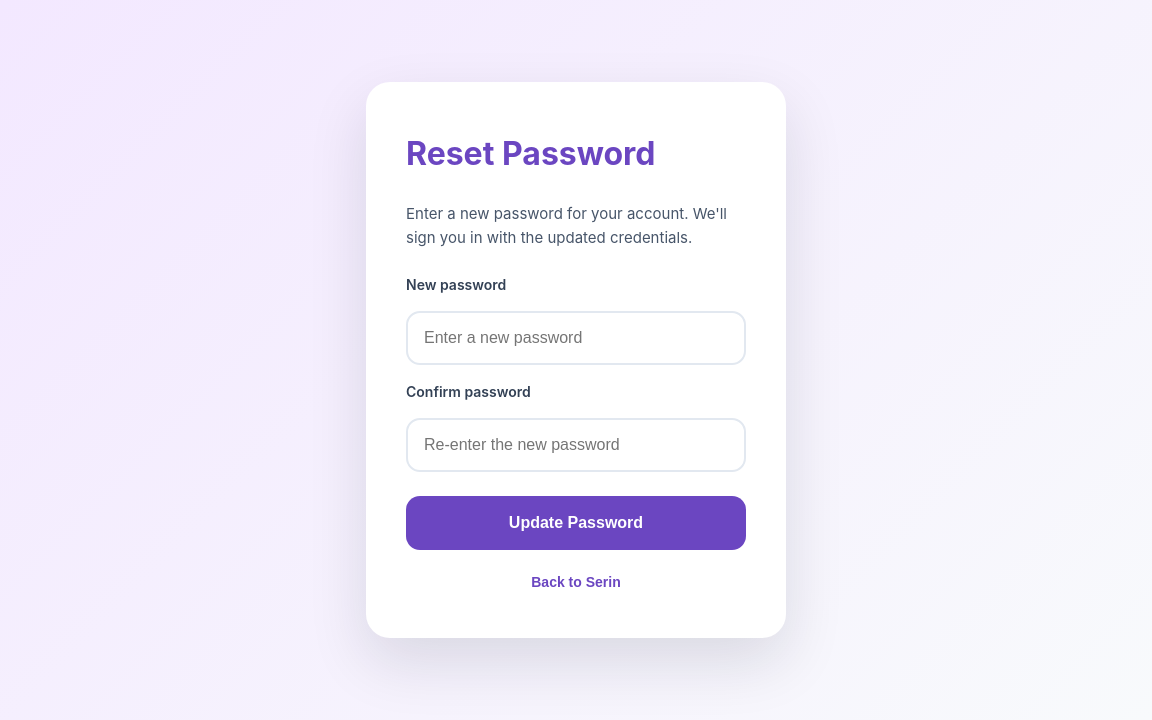
ResetPassword › updates password successfully and redirects
The image size is (1152, 720).
Type "secure123" into the password field labelled "New password".
click(576, 338); type("secure123")  # box [406,311,746,365]
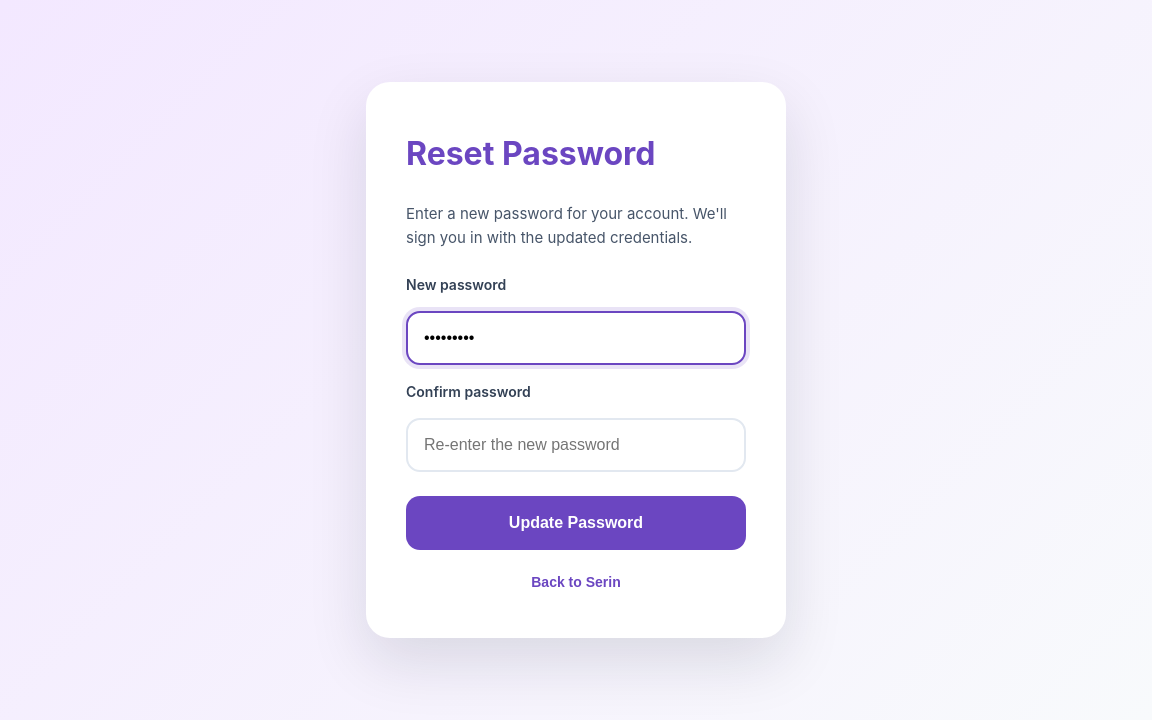
Type "secure123" into the password field labelled "Confirm password".
click(576, 445); type("secure123")  # box [406,418,746,472]
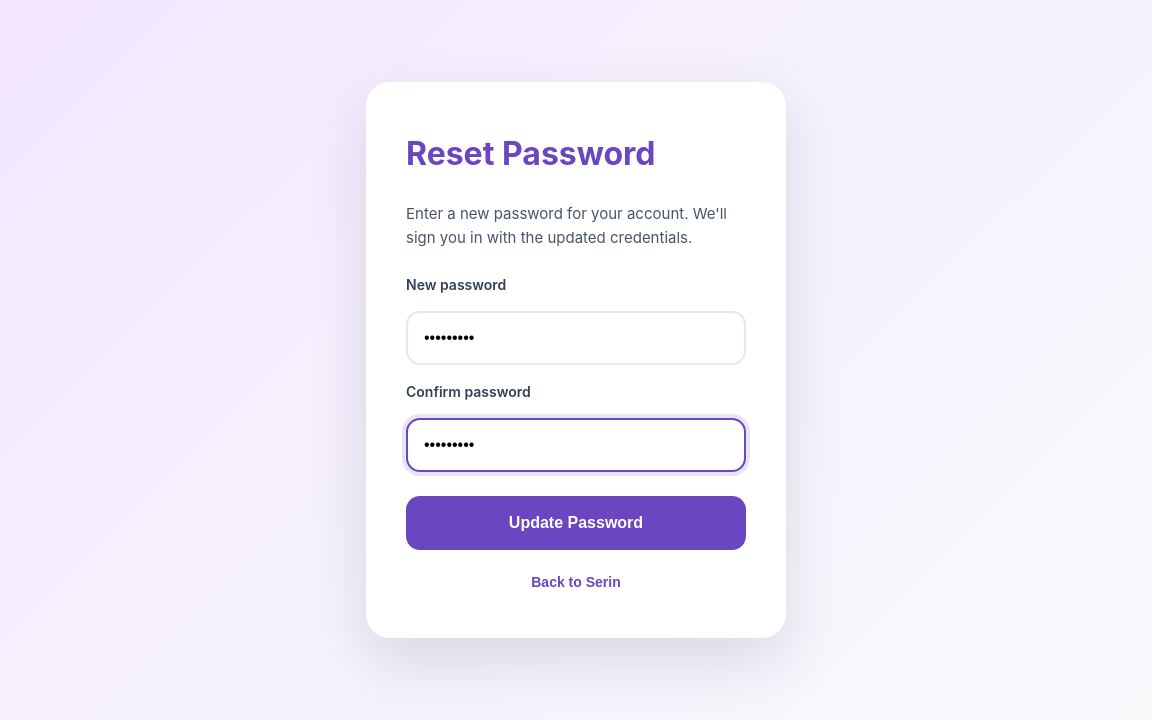
Click the button "Update Password".
click(576, 523)  # box [406,496,746,550]
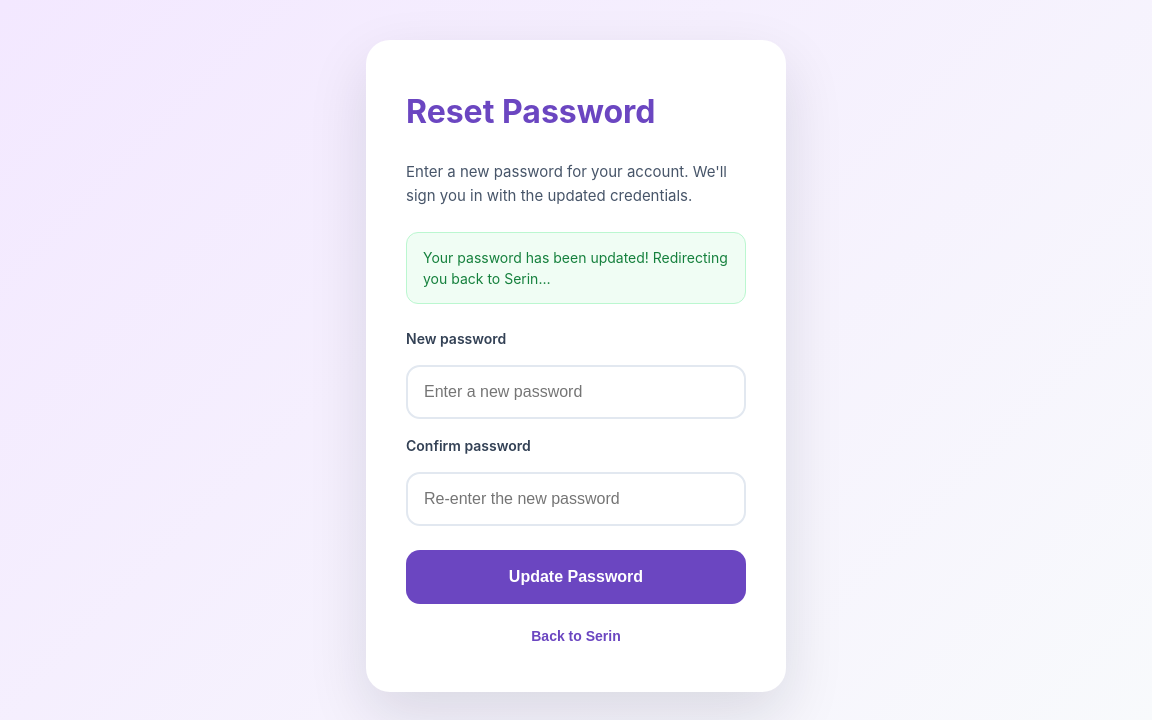
Check: the text "Your password has been updated! Redirecting you back to Serin…" is shown, box [406,232,746,304]
